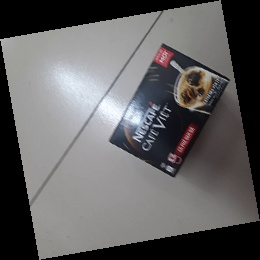CF Viet: (108, 42, 230, 178)
